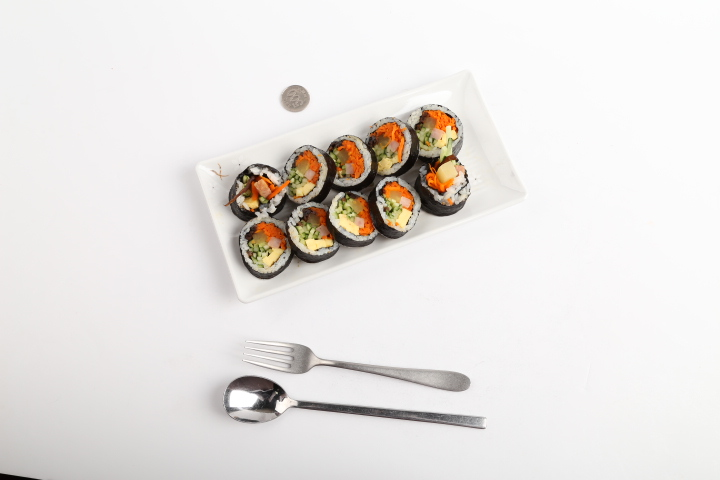dish: (195, 74, 525, 304)
ref_coin: (280, 85, 310, 111)
ref_fork: (242, 339, 319, 374)
ref_spoon: (224, 375, 298, 423)
김밥: (227, 104, 471, 280)
